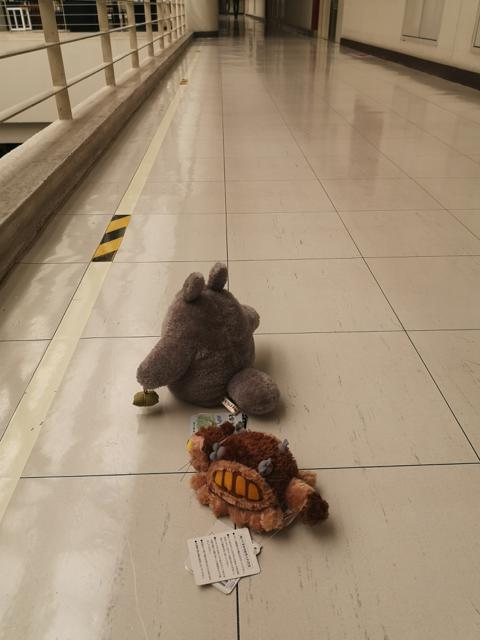nekobus: (176, 419, 337, 537)
totoro: (132, 262, 288, 417)
